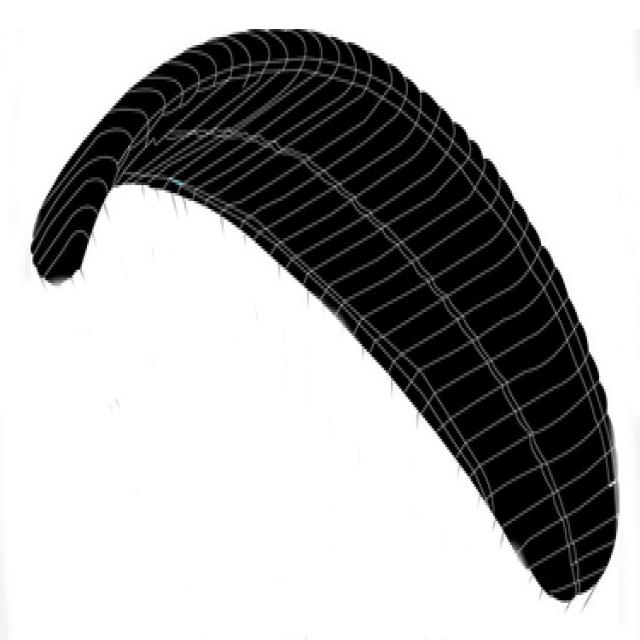paraglider: (29, 23, 620, 606)
